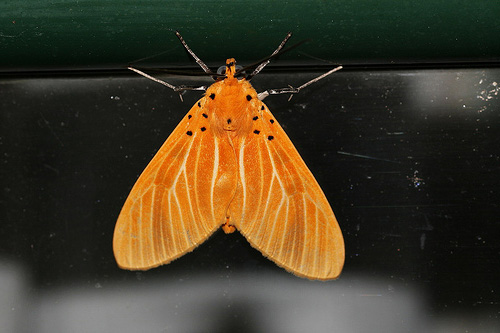Agape chloropyga: (107, 26, 346, 282)
moth: (105, 24, 344, 280)
